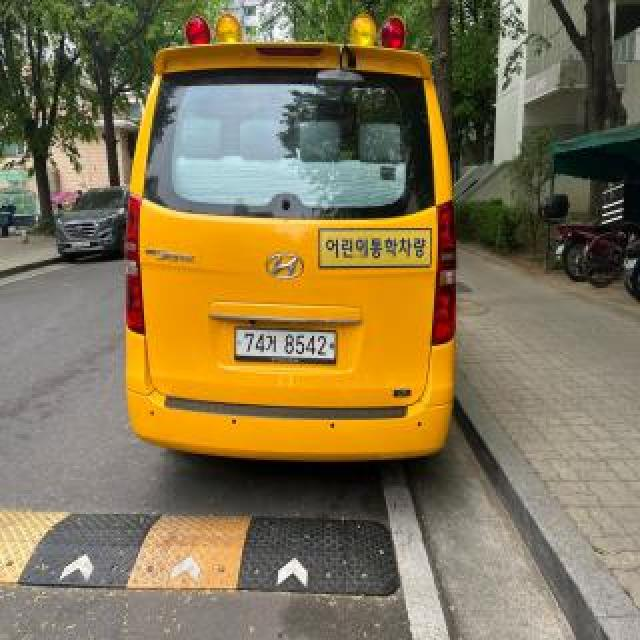car: (118, 13, 479, 487)
illegal_plate: (234, 324, 340, 368)
